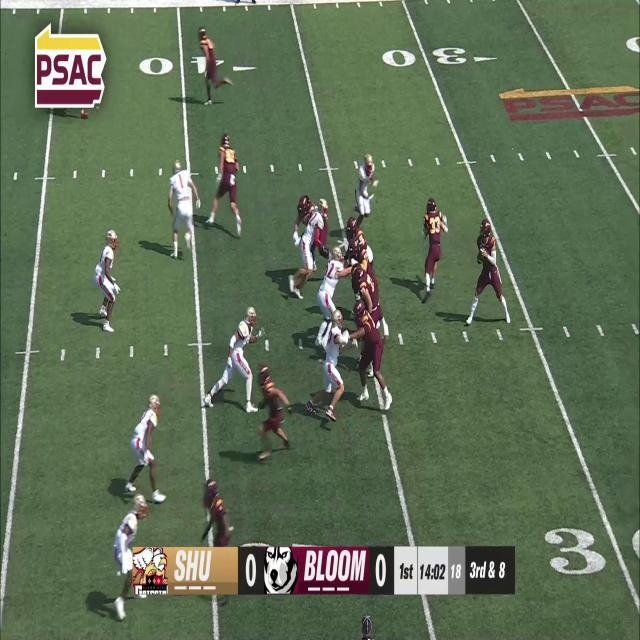football: (476, 248, 484, 264)
